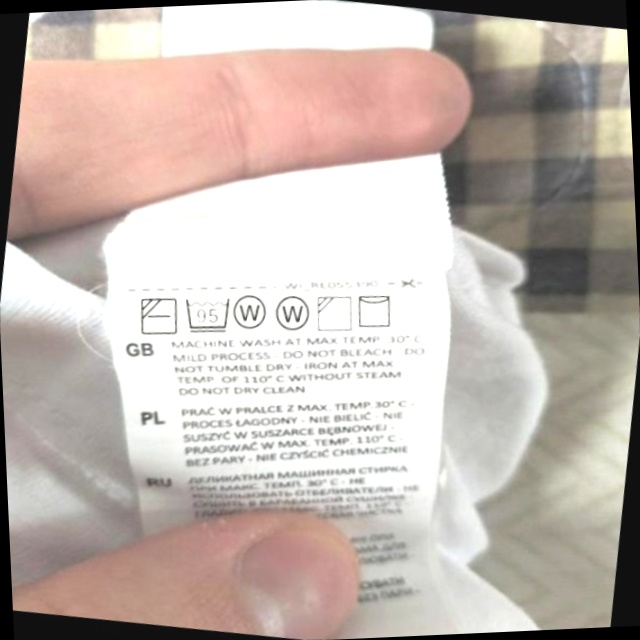95C: (178, 288, 238, 341)
dry_flat_in_shade: (132, 289, 184, 343)
line_dry: (350, 285, 401, 335)
shade_dry: (310, 288, 360, 339)
wet_clean: (269, 289, 317, 339), (228, 285, 275, 336)
